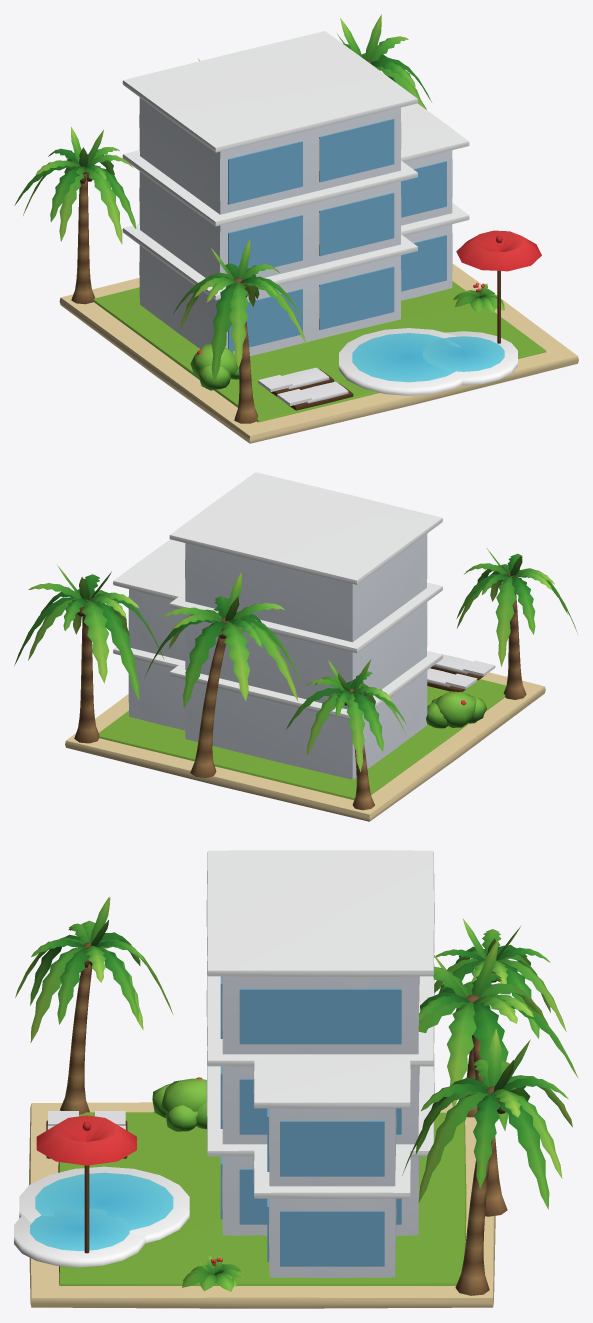
The model's file is LuxuryHotel_L3.obj.
The picture shows the model from 3 angles, top to bottom: view 1: azimuth 30°, elevation 25°; view 2: azimuth 150°, elevation 25°; view 3: azimuth 270°, elevation 25°; orthographic projection. The views are drawn at different scales.
Visible parts, largest first — view 1: LuxuryHotel_L3; view 2: LuxuryHotel_L3; view 3: LuxuryHotel_L3.
Part boxes in pixels (box(x1,y1,x2,y2)): LuxuryHotel_L3: box(14, 14, 578, 443); LuxuryHotel_L3: box(14, 472, 577, 821); LuxuryHotel_L3: box(14, 850, 578, 1308).
Size of the model in its own units: 4.85 by 2.72 by 4.83.
1 material, 1 textured.
